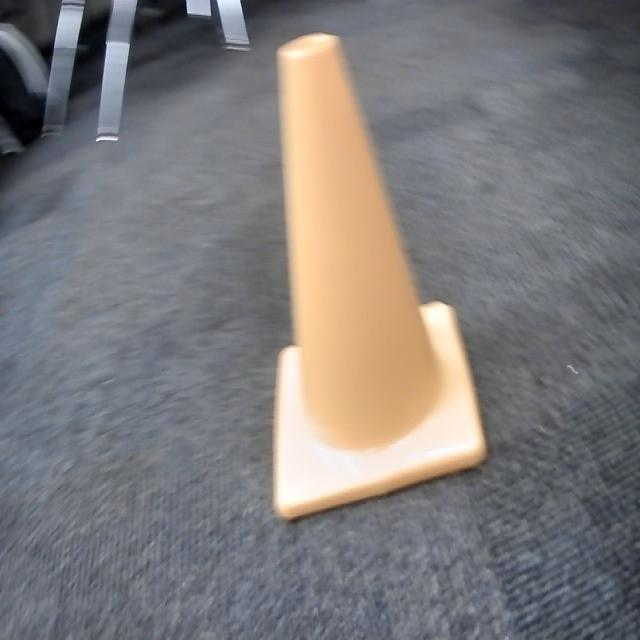cone: (267, 29, 489, 528)
